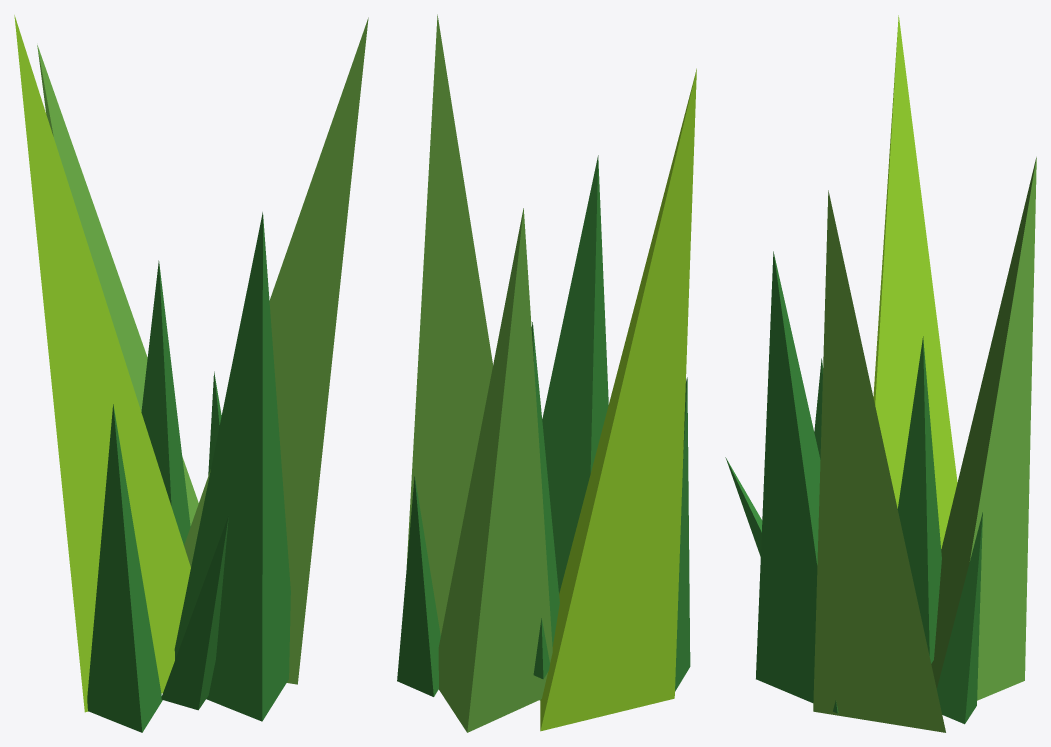
The model's file is second_grass_asset.fbx.
3 renders of one model, left to right at view 1: azimuth 30°, elevation 25°; view 2: azimuth 150°, elevation 25°; view 3: azimuth 270°, elevation 25°, orthographic. The views are drawn at different scales.
Parts seen in each view (by area): view 1: Cone, Cone.002, Cone.003, Cone.007, Cone.001, Cone.004, Cone.005, Cone.006; view 2: Cone, Cone.001, Cone.003, Cone.002, Cone.006, Cone.004, Cone.007; view 3: Cone.003, Cone.001, Cone.002, Cone, Cone.004, Cone.006, Cone.005.
Boxes of the visible parts, x1=… form: Cone: x1=14, y1=15, x2=190, y2=712; Cone.002: x1=174, y1=212, x2=290, y2=721; Cone.003: x1=184, y1=17, x2=368, y2=684; Cone.007: x1=87, y1=404, x2=162, y2=732; Cone.001: x1=37, y1=45, x2=198, y2=525; Cone.004: x1=141, y1=260, x2=190, y2=544; Cone.005: x1=161, y1=515, x2=228, y2=710; Cone.006: x1=208, y1=371, x2=221, y2=475; Cone: x1=540, y1=68, x2=696, y2=731; Cone.001: x1=438, y1=208, x2=552, y2=732; Cone.003: x1=406, y1=14, x2=540, y2=700; Cone.002: x1=542, y1=155, x2=608, y2=593; Cone.006: x1=397, y1=476, x2=440, y2=696; Cone.004: x1=531, y1=322, x2=559, y2=679; Cone.007: x1=675, y1=377, x2=690, y2=691; Cone.003: x1=813, y1=190, x2=945, y2=732; Cone.001: x1=931, y1=157, x2=1036, y2=700; Cone.002: x1=756, y1=251, x2=838, y2=713; Cone: x1=873, y1=15, x2=957, y2=548; Cone.004: x1=897, y1=336, x2=941, y2=663; Cone.006: x1=937, y1=512, x2=982, y2=724; Cone.005: x1=725, y1=457, x2=762, y2=556.
Size of the model in its own units: 218 by 460 by 216.
